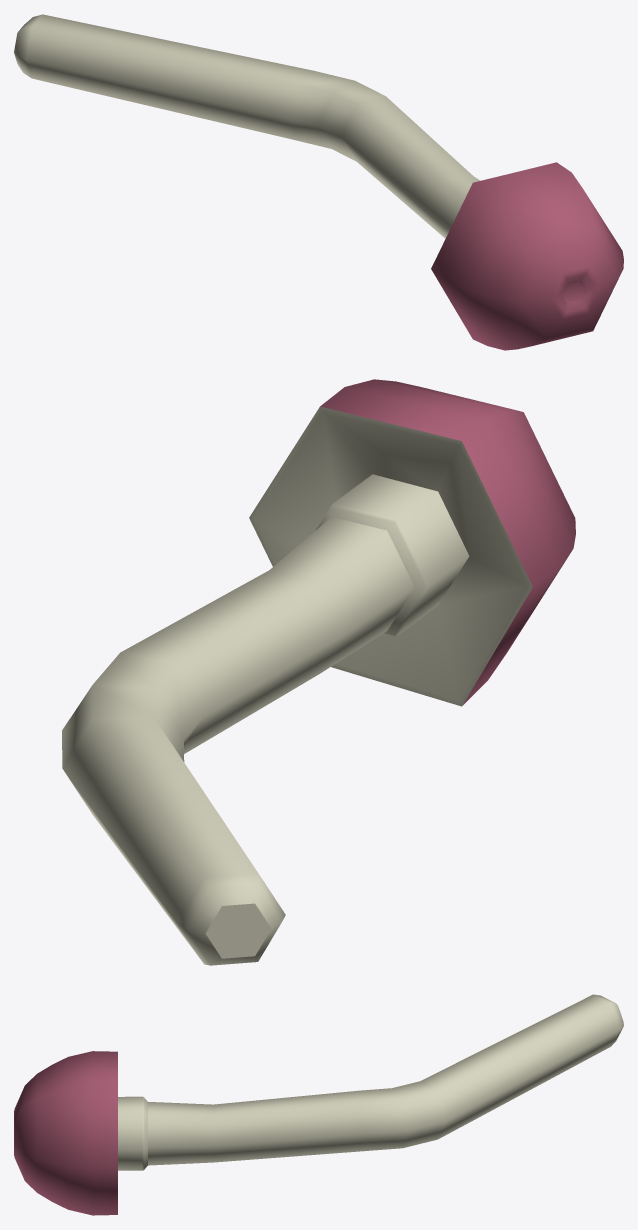
Rendered from SM_Mushroom_04.fbx.
The picture shows the model from 3 angles, top to bottom: view 1: azimuth 30°, elevation 25°; view 2: azimuth 150°, elevation 25°; view 3: azimuth 270°, elevation 25°; orthographic projection. The views are drawn at different scales.
Parts seen in each view (by area): view 1: SM_Mushroom_04; view 2: SM_Mushroom_04; view 3: SM_Mushroom_04.
Boxes of the visible parts, x1=… form: SM_Mushroom_04: x1=14, y1=14, x2=623, y2=350; SM_Mushroom_04: x1=62, y1=379, x2=575, y2=965; SM_Mushroom_04: x1=14, y1=994, x2=623, y2=1215.
Size of the model in its own units: 43.17 by 21.6 by 89.67.
